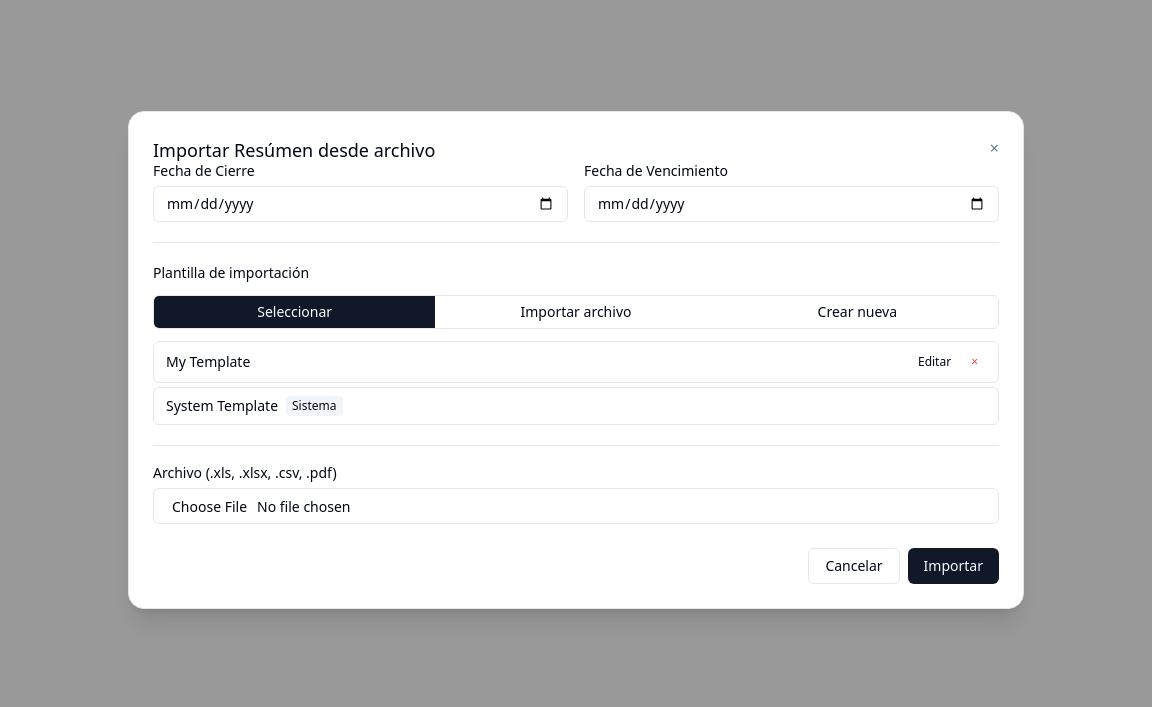
Test case: ImportStatementModal › shows template form when clicking the Crear nueva tab
Expected: the text "My Template" is shown, [166,352,250,372]
Click the button "Crear nueva" at (857,312), box [717,296,998,328]
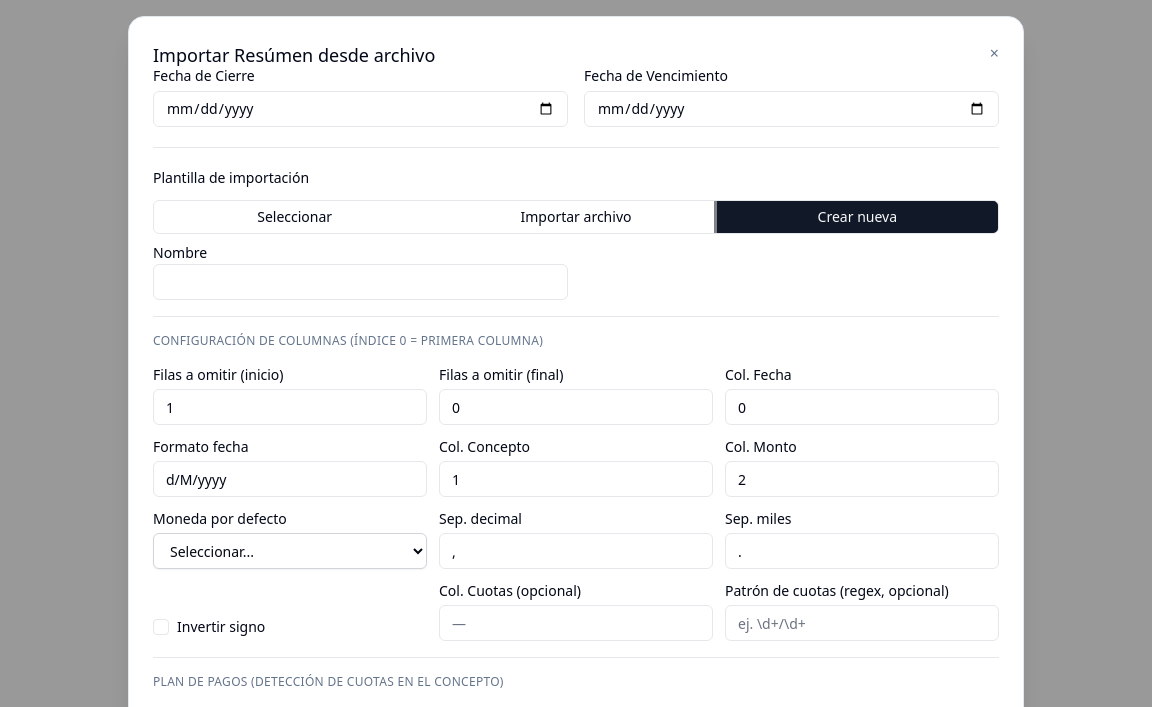
Expected: the field with placeholder "d/M/yyyy" below "Formato fecha" is shown, [153,461,427,497]
